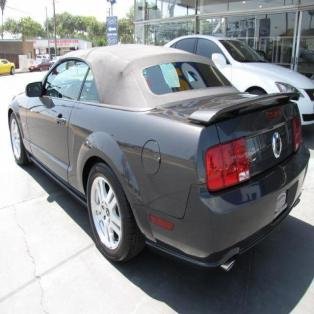Auto: (8, 43, 309, 272)
